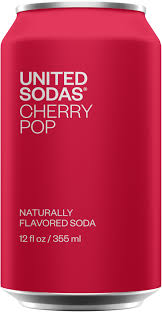can: (1, 1, 162, 312)
